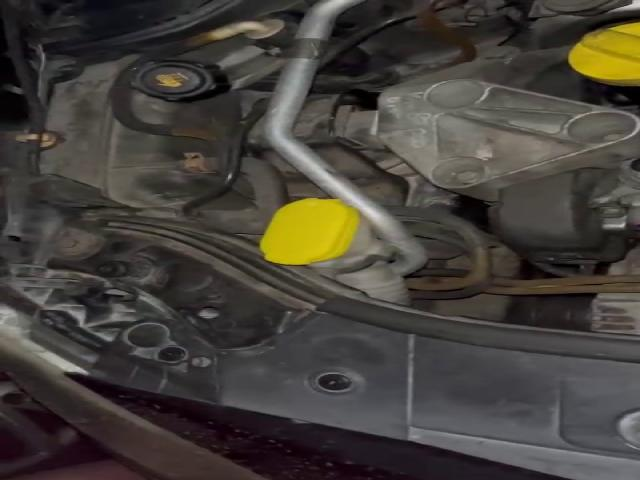antifreeze_tank: (40, 59, 241, 207)
